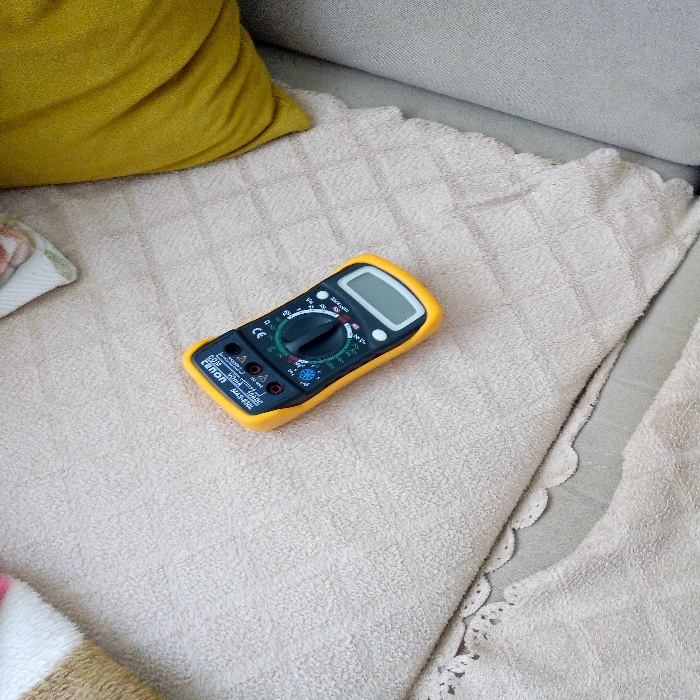multimetre: (154, 239, 457, 439)
